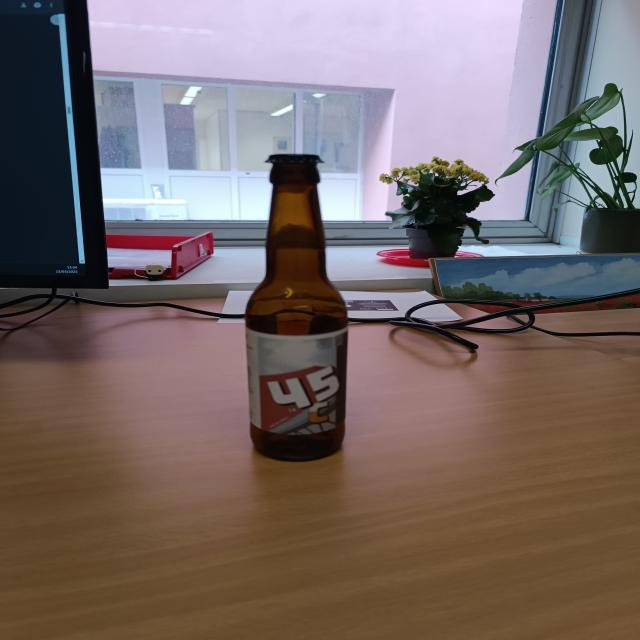Bottle: (249, 152, 351, 464)
Cap: (260, 152, 328, 164)
Label: (249, 332, 346, 431)
